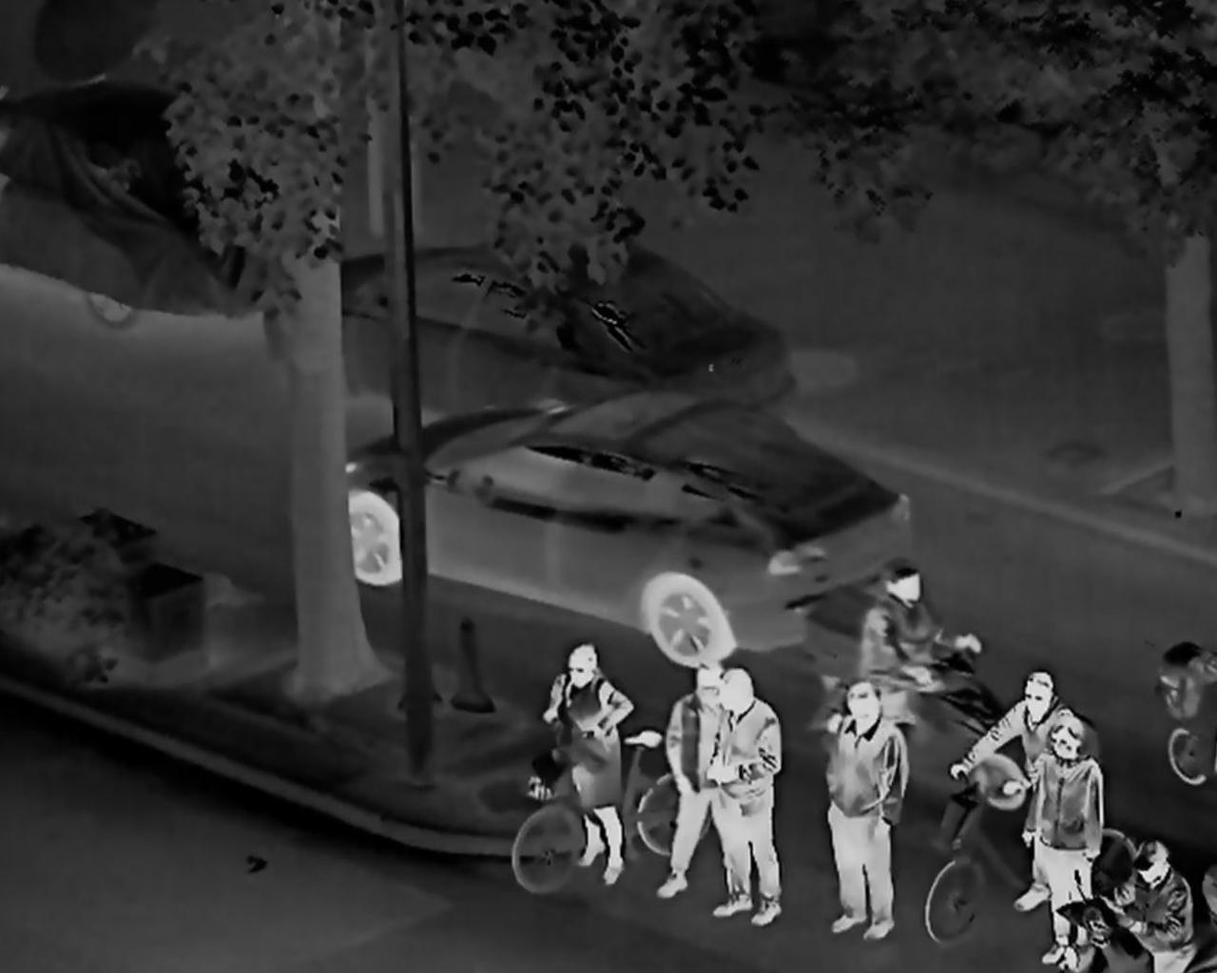person: (949, 670, 1086, 913), (856, 556, 989, 758), (821, 681, 913, 940), (539, 645, 636, 885), (658, 662, 748, 895), (1028, 718, 1105, 967), (710, 670, 783, 925), (1106, 838, 1195, 973)
